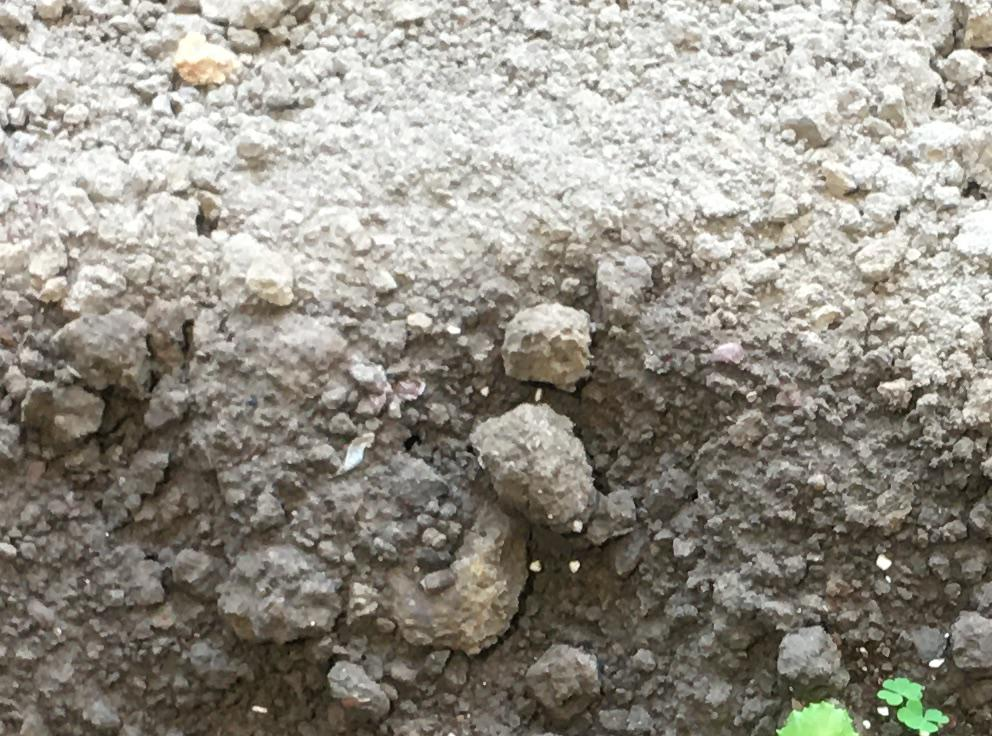block: (465, 397, 593, 527), (497, 299, 592, 393)
